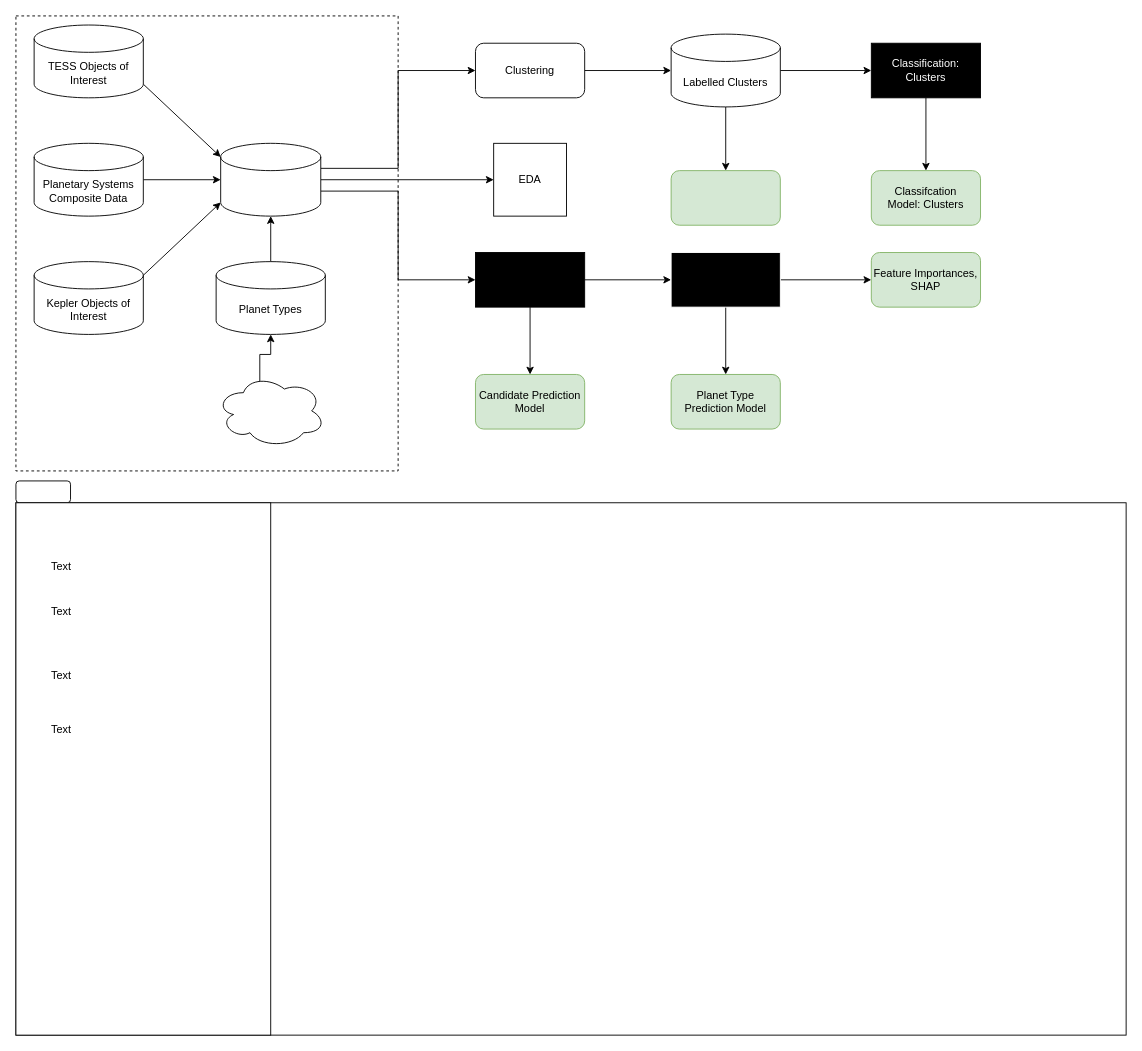
The diagram is 1142 pixels wide and 1051 high, and some of its shapes have lost their labels. Here are the shapes that lost their labels. From the top down, the centre of each, then its label:
pixel 270 179: Combined Dataset
pixel 725 197: Cluster Analysis
pixel 530 279: Classification: Candidate Prediction
pixel 725 279: Classification: Planet Type Prediction
pixel 270 410: Exoplanet Catalog
pixel 43 491: UI
